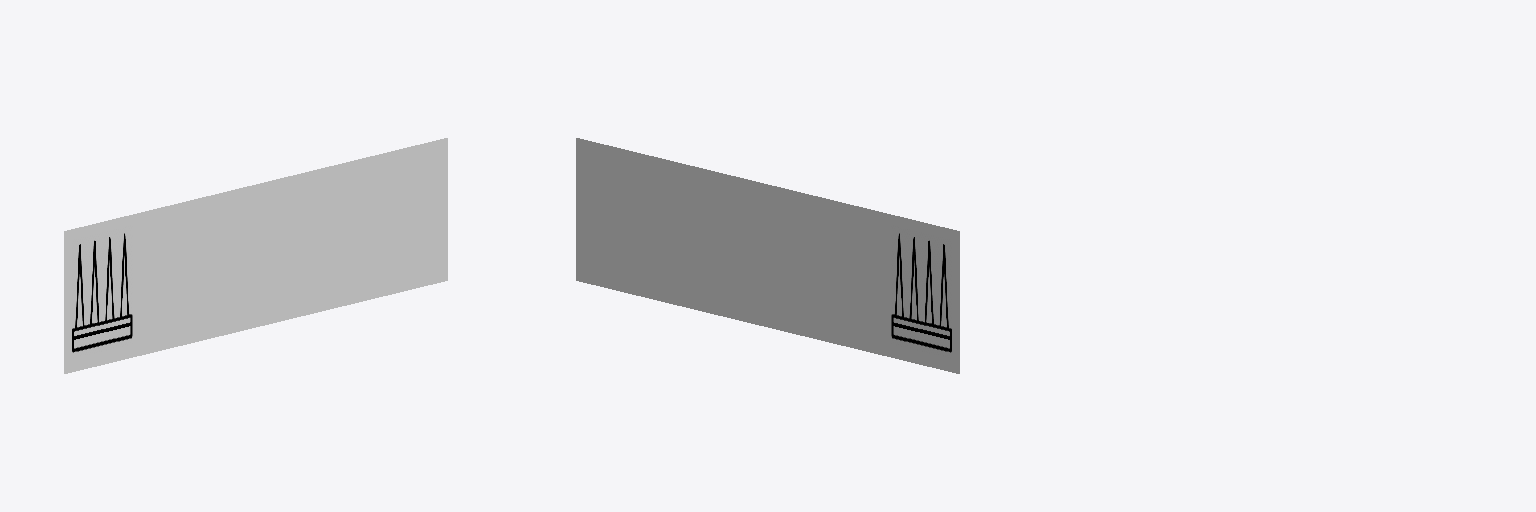
The picture shows the model from 3 angles: view 1: azimuth 30°, elevation 25°; view 2: azimuth 150°, elevation 25°; view 3: azimuth 270°, elevation 25°; orthographic projection.
Parts seen in each view (by area): view 1: select_2_Plane.007; view 2: select_2_Plane.007; view 3: none.
Boxes of the visible parts, x1=… form: select_2_Plane.007: x1=64, y1=138, x2=447, y2=373; select_2_Plane.007: x1=576, y1=138, x2=959, y2=373.
Bounding box in the file's own units: 0.927 × 0.33 × 0.
1 materials, 1 textured.